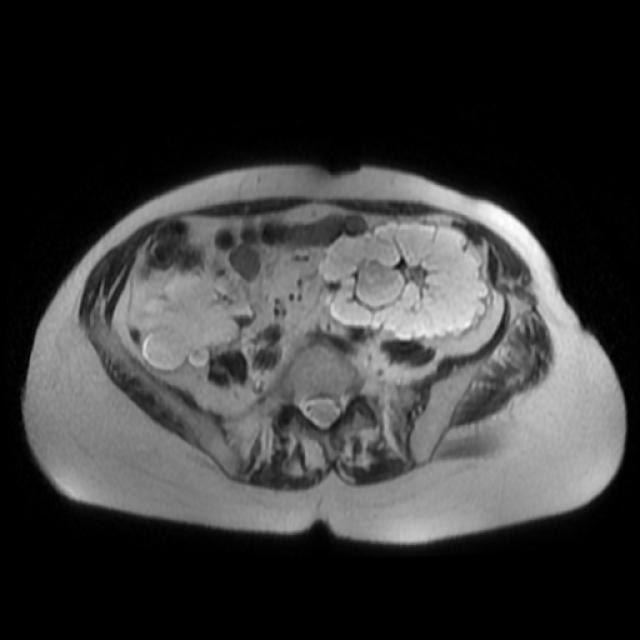sag: (129, 270, 257, 373)
sol: (314, 218, 491, 341)
